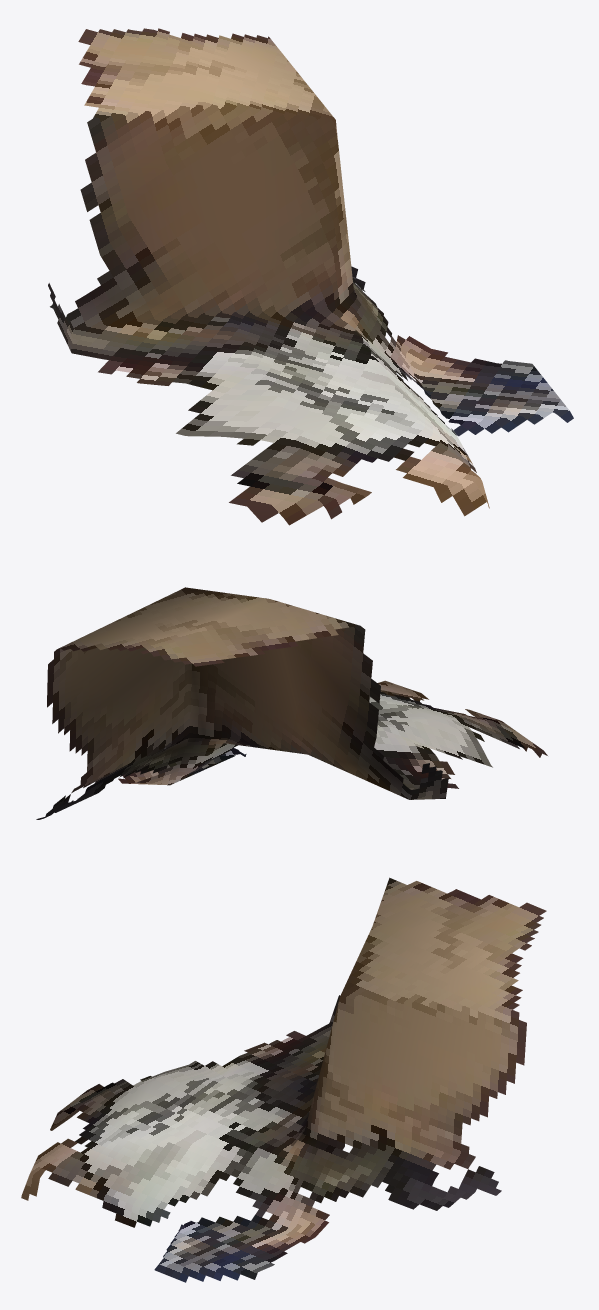
The model's file is InteractiveTrigger_quest82109.glb.
3 renders of one model, top to bottom at view 1: azimuth 30°, elevation 25°; view 2: azimuth 150°, elevation 25°; view 3: azimuth 270°, elevation 25°, orthographic. The views are drawn at different scales.
Parts seen in each view (by area): view 1: DeadMan_Zealot_N; view 2: DeadMan_Zealot_N; view 3: DeadMan_Zealot_N.
Part boxes in pixels (<box>): DeadMan_Zealot_N: <box>48,28,573,525</box>; DeadMan_Zealot_N: <box>36,587,547,819</box>; DeadMan_Zealot_N: <box>21,877,546,1282</box>.
Bounding box in the file's own units: 0.7096 × 0.4589 × 0.8755.
Materials: 1 (1 with a texture image).
